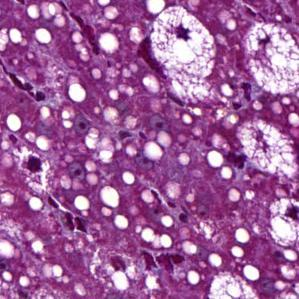ballooning: (149, 4, 219, 106), (238, 23, 296, 100), (232, 114, 296, 181), (266, 195, 297, 252), (203, 269, 261, 296)
